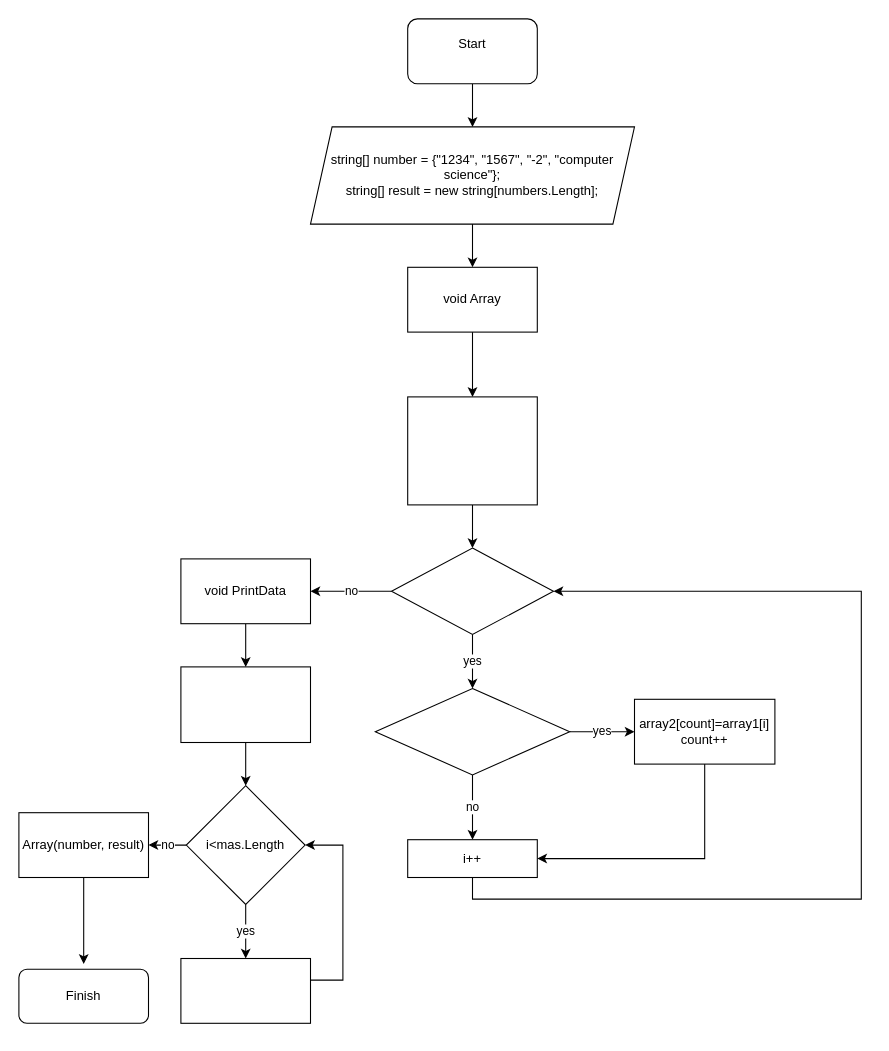
This 889x1051 diagram has some shape labels left out. The shapes that lost their labels are listed below. From the top down, each one's centre as x and y in pixels, then its label:
At (472,450): "string[] array1 string[] array2 int count=0 int i=0".
At (472,590): "i<array1.Length".
At (245,704): "string[] mas i=0".
At (472,731): "array1[i].Length<=3".
At (245,990): "Print mas[i] i++".
